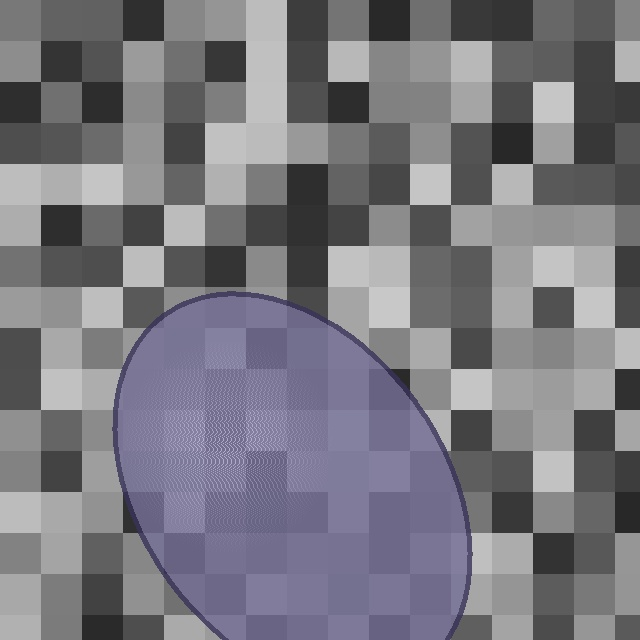lens: (114, 294, 470, 640)
